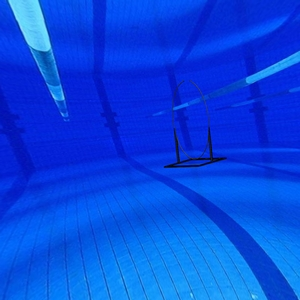circle: (162, 76, 229, 172)
